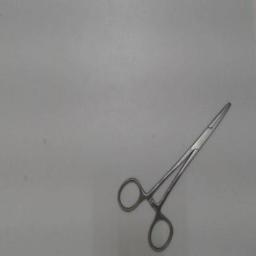Mayo Needle Holder: (114, 94, 240, 254)
